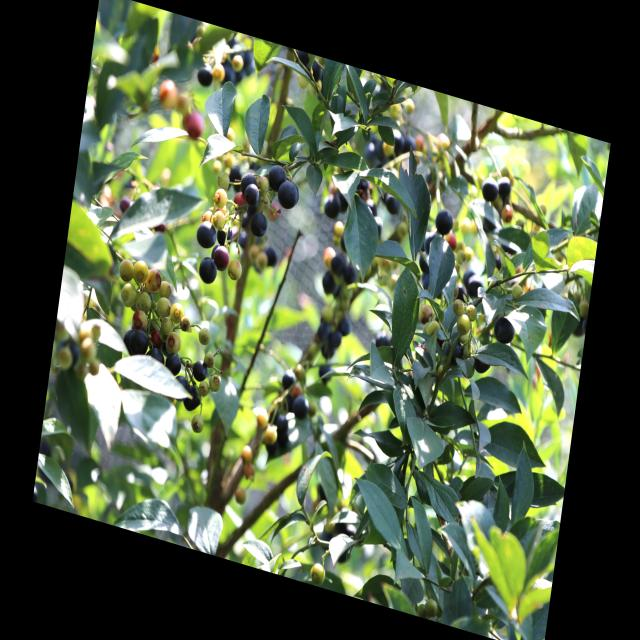blueberry: (490, 313, 516, 350), (276, 180, 304, 212), (433, 208, 458, 241), (196, 218, 220, 252), (125, 326, 148, 360), (197, 253, 219, 288), (463, 265, 485, 300), (177, 386, 202, 413), (480, 176, 501, 206), (162, 350, 182, 380), (240, 182, 262, 208), (323, 197, 342, 224), (189, 359, 208, 385), (253, 211, 270, 238), (267, 161, 285, 186), (334, 250, 348, 278), (146, 350, 166, 368), (295, 398, 309, 420), (198, 66, 214, 82)
blueberry-halfripe: (183, 104, 207, 142), (232, 188, 251, 216), (212, 243, 230, 271), (131, 308, 149, 332), (147, 328, 165, 350)
blueberry-unripe: (118, 278, 138, 310), (167, 297, 187, 327), (116, 256, 136, 284), (145, 264, 163, 294), (164, 328, 183, 356), (135, 287, 153, 316), (225, 255, 244, 282), (132, 258, 150, 286), (154, 294, 172, 320), (417, 301, 435, 327), (189, 411, 206, 436), (196, 323, 212, 349), (456, 312, 472, 338), (212, 186, 228, 211), (157, 277, 173, 301), (426, 318, 442, 340), (208, 371, 223, 394), (216, 170, 231, 192), (212, 209, 227, 231), (160, 315, 175, 335), (257, 173, 270, 196), (452, 297, 466, 317), (464, 302, 478, 322), (197, 378, 211, 397), (203, 350, 216, 370), (201, 208, 215, 226)
